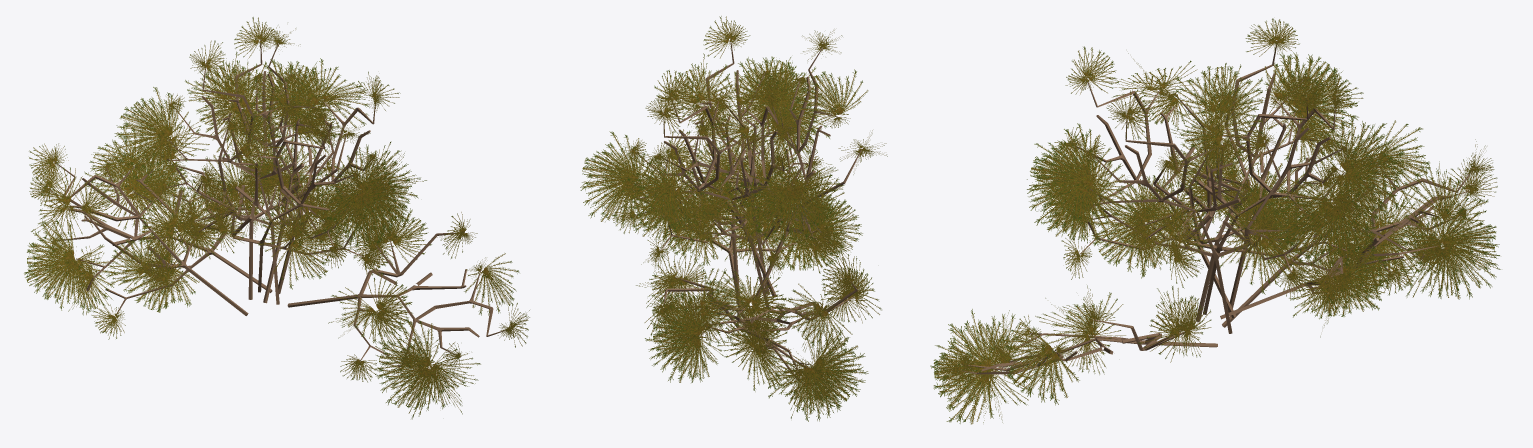
The model's file is SM_bush_04.glb.
3 views of the same model, side by side, from view 1: azimuth 30°, elevation 25°; view 2: azimuth 150°, elevation 25°; view 3: azimuth 270°, elevation 25° (orthographic). The views are drawn at different scales.
Visible parts, largest first — view 1: SM_bush_04; view 2: SM_bush_04; view 3: SM_bush_04.
Boxes of the visible parts, x1,y1,x2,y2 form: SM_bush_04: (24,17,529,419); SM_bush_04: (580,16,887,421); SM_bush_04: (930,18,1500,424).
Bounding box in the file's own units: 3.93 × 3.31 × 4.91.
2 materials, 2 textured.
